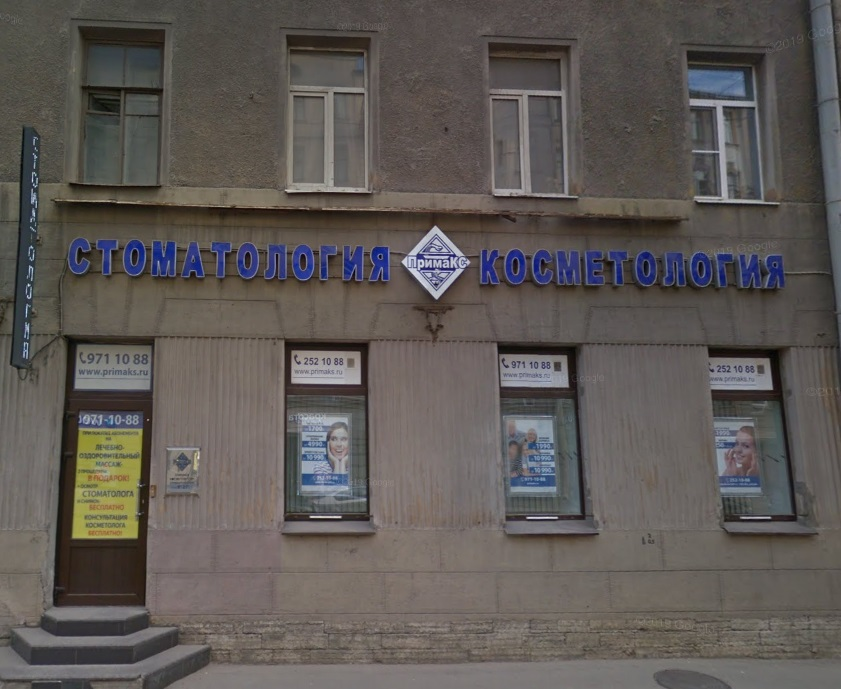cantilever: (10, 125, 50, 379)
door: (63, 399, 142, 601)
signboard: (66, 235, 787, 288)
window: (283, 344, 371, 525), (495, 349, 588, 520), (708, 352, 798, 522), (76, 35, 163, 188), (683, 57, 771, 203), (289, 46, 371, 191), (492, 53, 569, 196)
